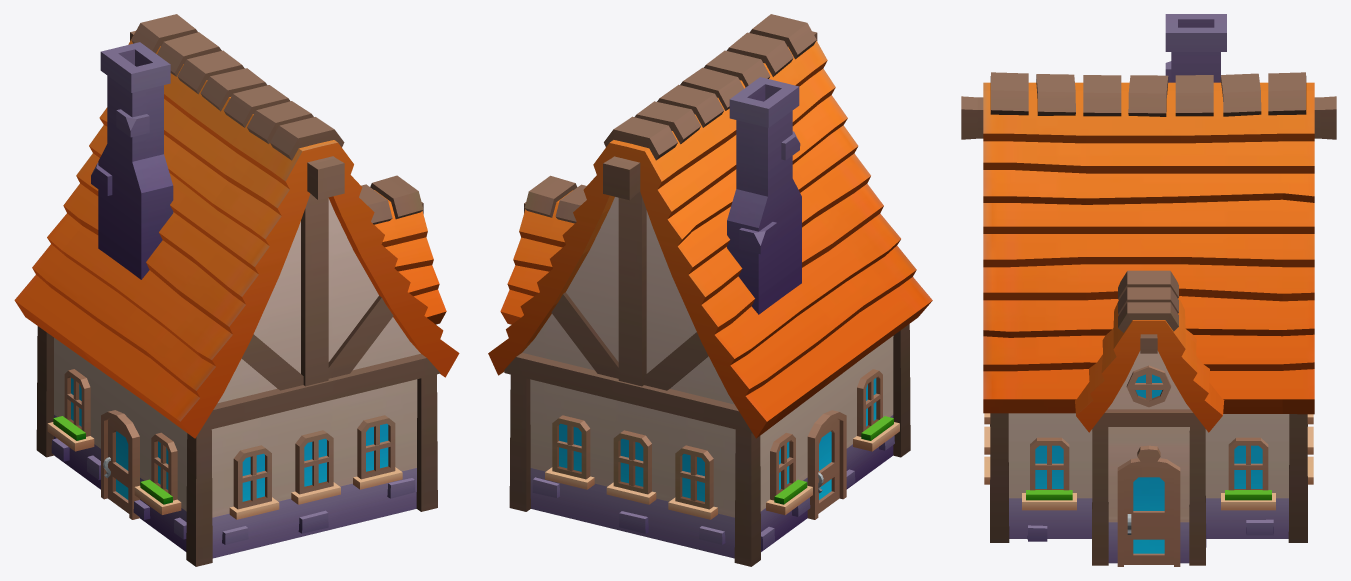
Rendered from cottage.glb.
3 views of the same model, side by side, from view 1: azimuth 30°, elevation 25°; view 2: azimuth 150°, elevation 25°; view 3: azimuth 270°, elevation 25° (orthographic).
Parts seen in each view (by area): view 1: cottage; view 2: cottage; view 3: cottage.
Part boxes in pixels (<box>): cottage: <box>14,14,459,566</box>; cottage: <box>488,14,932,566</box>; cottage: <box>961,14,1336,566</box>.
Bounding box in the file's own units: 6.75 × 8.47 × 6.82.
1 material, 1 textured.
